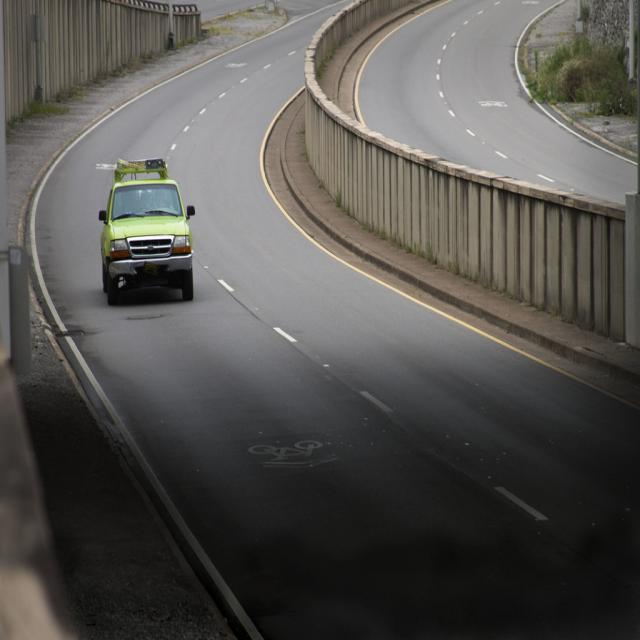car: (96, 153, 187, 296)
